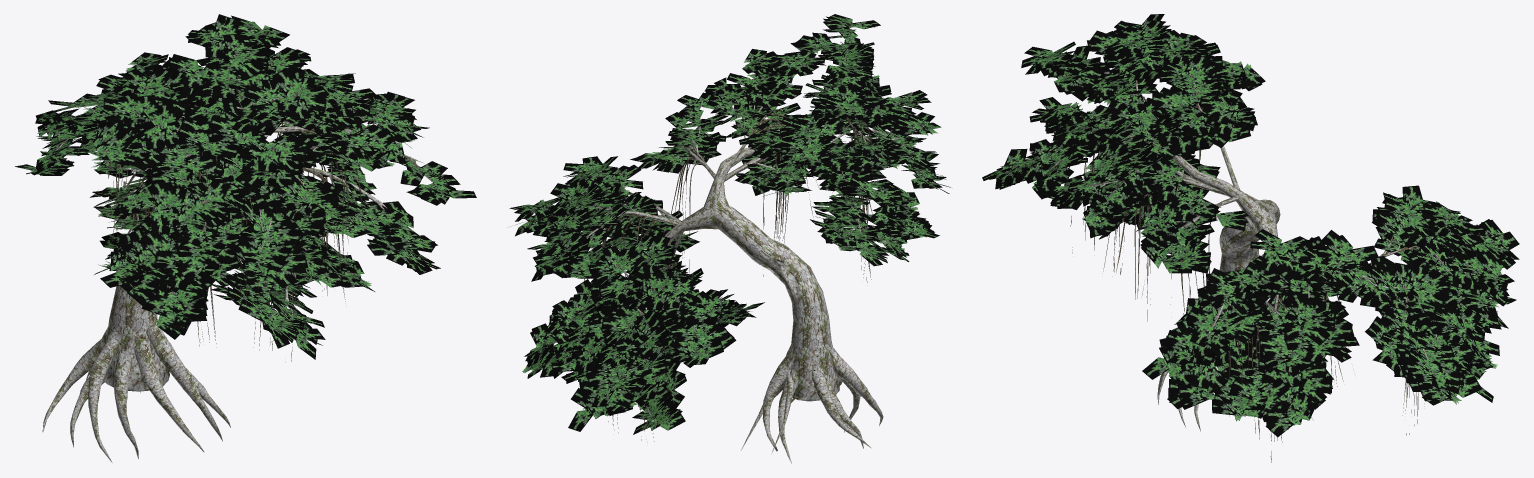
File: Big_tree_01_C_001.glb
The picture shows the model from 3 angles, left to right: view 1: azimuth 30°, elevation 25°; view 2: azimuth 150°, elevation 25°; view 3: azimuth 270°, elevation 25°; orthographic projection. The views are drawn at different scales.
Parts seen in each view (by area): view 1: Big_tree_01_C.001; view 2: Big_tree_01_C.001; view 3: Big_tree_01_C.001.
Boxes of the visible parts, left/top/right/bottom form: Big_tree_01_C.001: left=15, top=14, right=476, bottom=462; Big_tree_01_C.001: left=509, top=14, right=950, bottom=463; Big_tree_01_C.001: left=982, top=14, right=1519, bottom=462.
Bounding box in the file's own units: 16.71 × 16.58 × 20.57.
3 materials, 3 textured.
